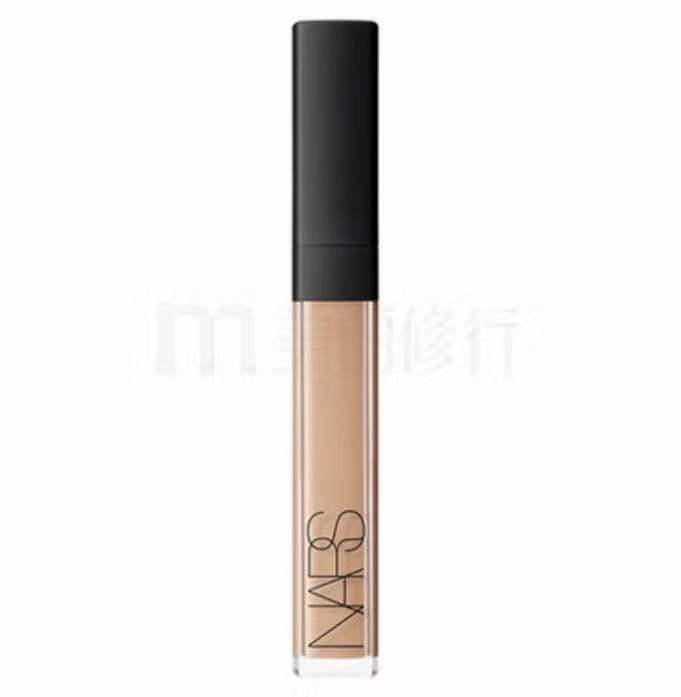cosmetic: (293, 22, 382, 680)
